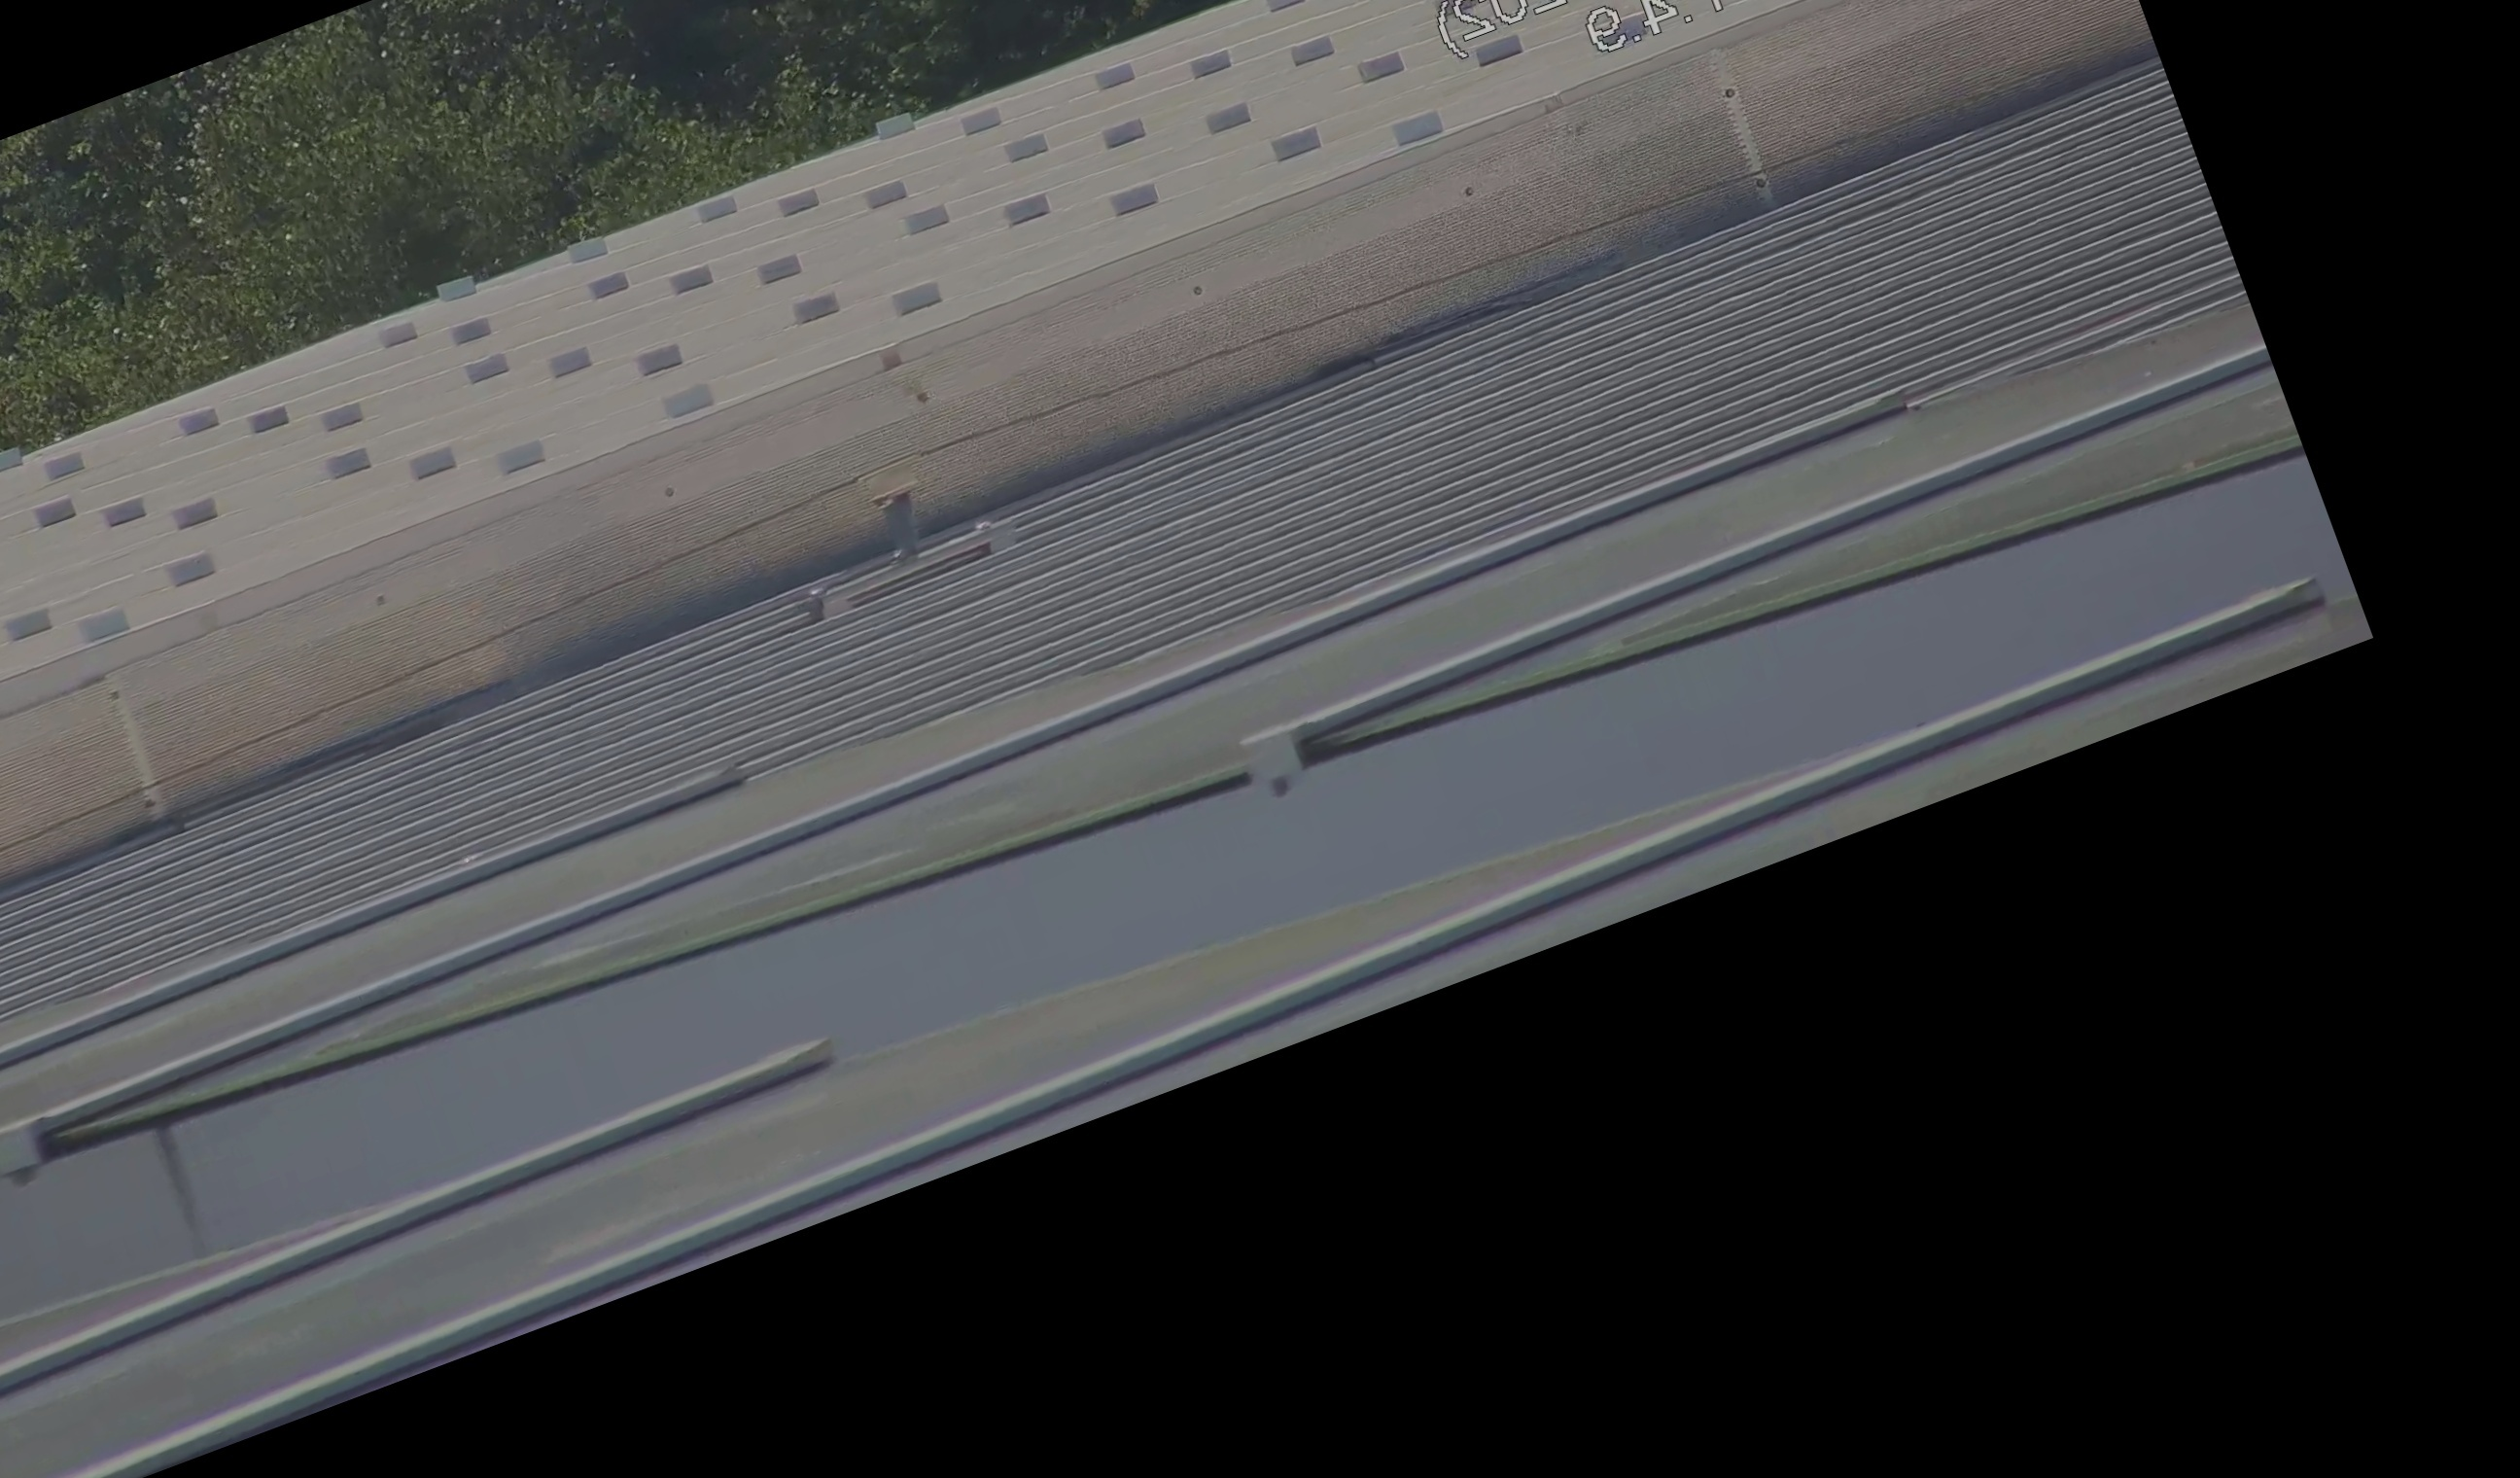Other: (805, 465, 972, 605)
